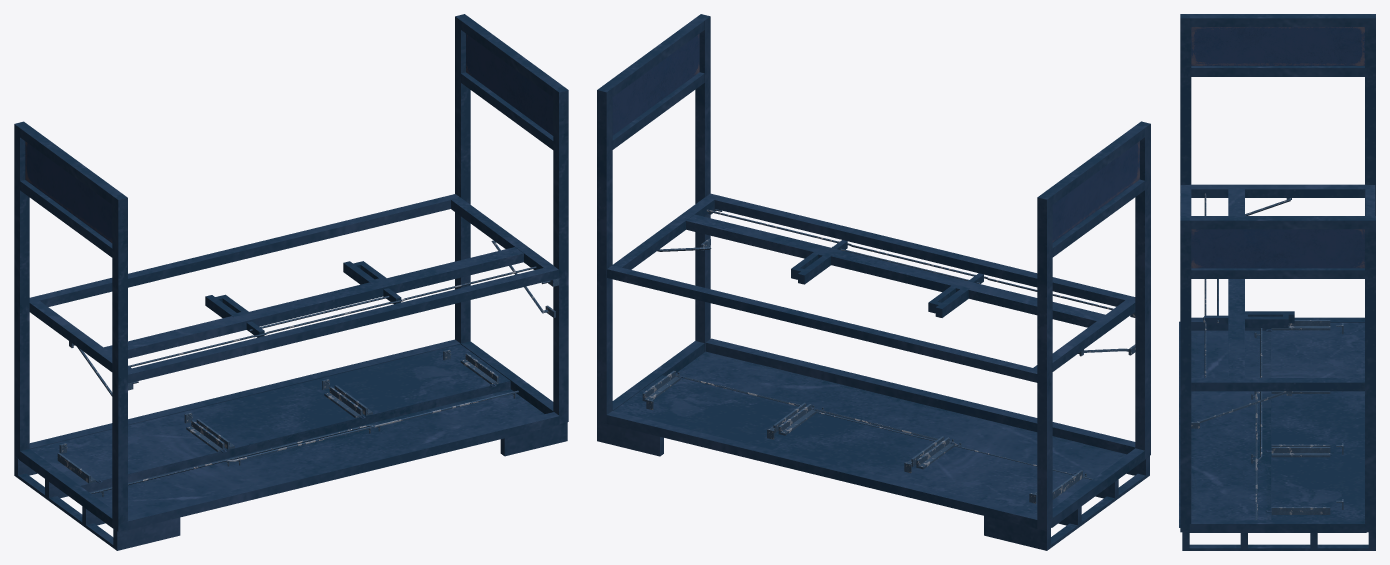
Rendered from tieyun01.FBX.
The picture shows the model from 3 angles, left to right: view 1: azimuth 30°, elevation 25°; view 2: azimuth 150°, elevation 25°; view 3: azimuth 270°, elevation 25°; orthographic projection. The views are drawn at different scales.
Visible parts, largest first — view 1: YF_Model_tieyun01; view 2: YF_Model_tieyun01; view 3: YF_Model_tieyun01.
Part boxes in pixels (x1,y1,x2,y2): YF_Model_tieyun01: (14, 14, 568, 550); YF_Model_tieyun01: (597, 14, 1150, 550); YF_Model_tieyun01: (1179, 14, 1375, 550).
Size of the model in its own units: 250 by 186 by 101.
Materials: 1 (1 with a texture image).
